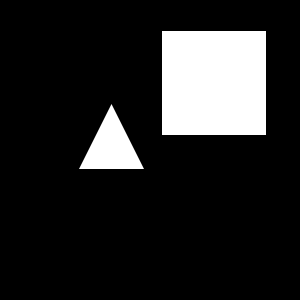circle: (162, 31, 266, 135)
triangle: (79, 104, 144, 169)
